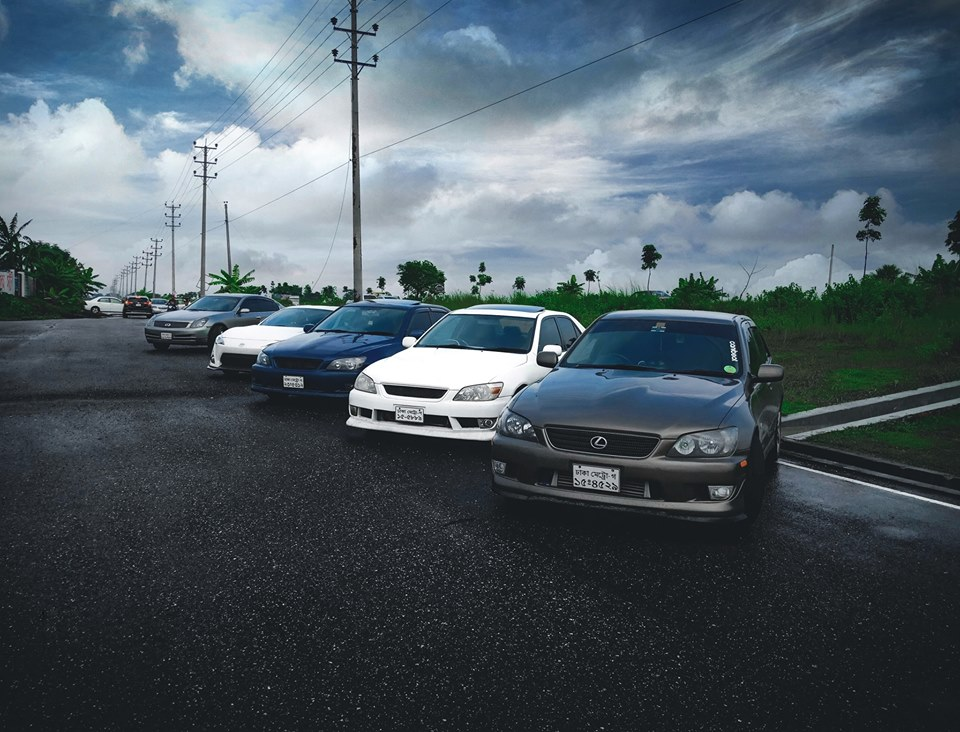registration_plate: (572, 463, 621, 493), (395, 406, 424, 423), (282, 375, 304, 389)
